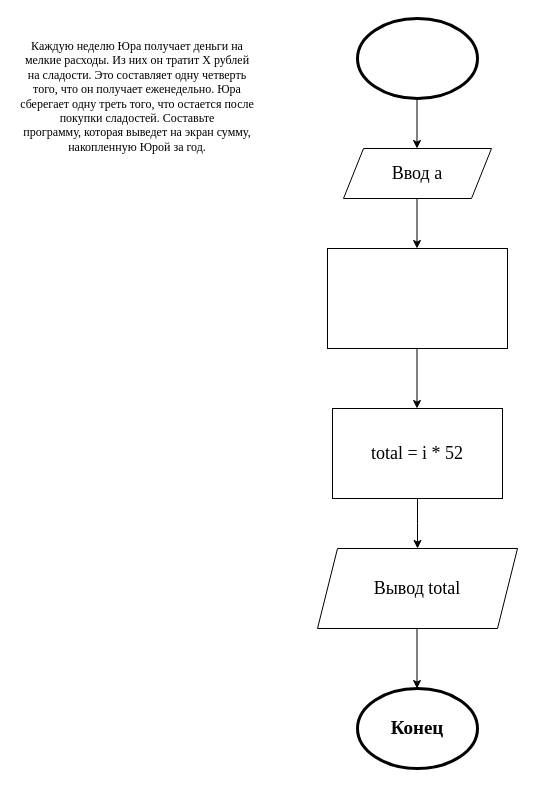
Image size: 535x787. Some labels were removed from this diagram. Here are the shapes that lost their labels. From the top down, the centre of each, then its label:
pixel 417 58: Начало
pixel 417 298: x = a / 4 i = (a - x) / 3
